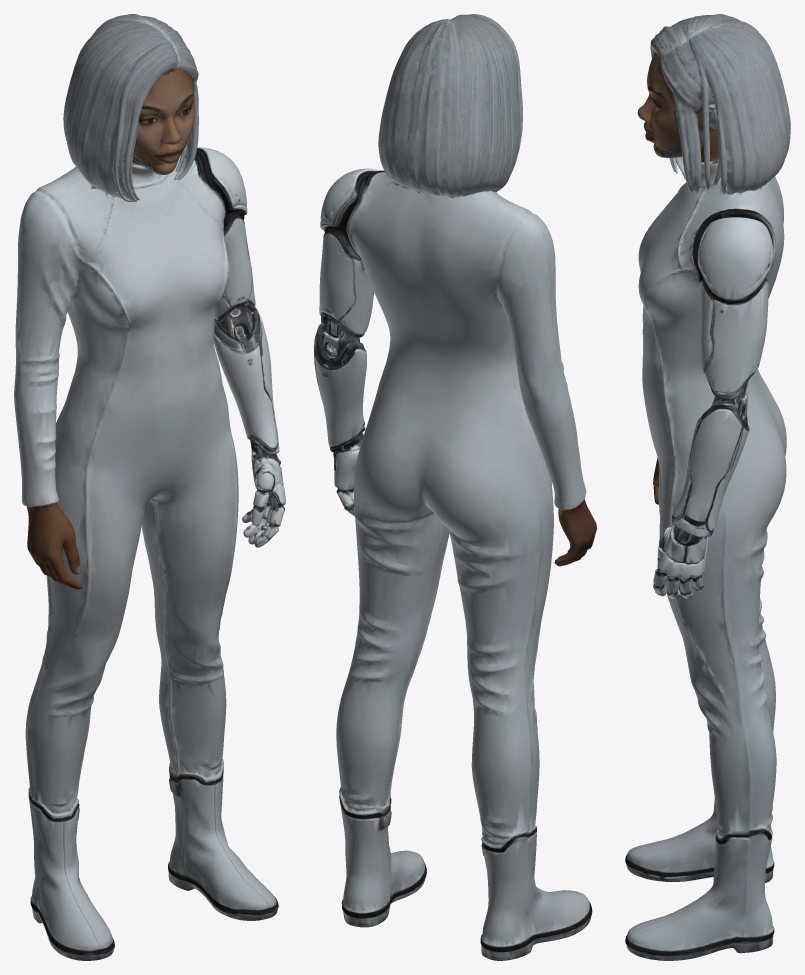
The model's file is maxine-c.glb.
The picture shows the model from 3 angles, left to right: view 1: azimuth 30°, elevation 25°; view 2: azimuth 150°, elevation 25°; view 3: azimuth 270°, elevation 25°; orthographic projection.
Bounding box in the file's own units: 0.5619 × 1.9 × 0.3216.
2 materials, 2 textured.
